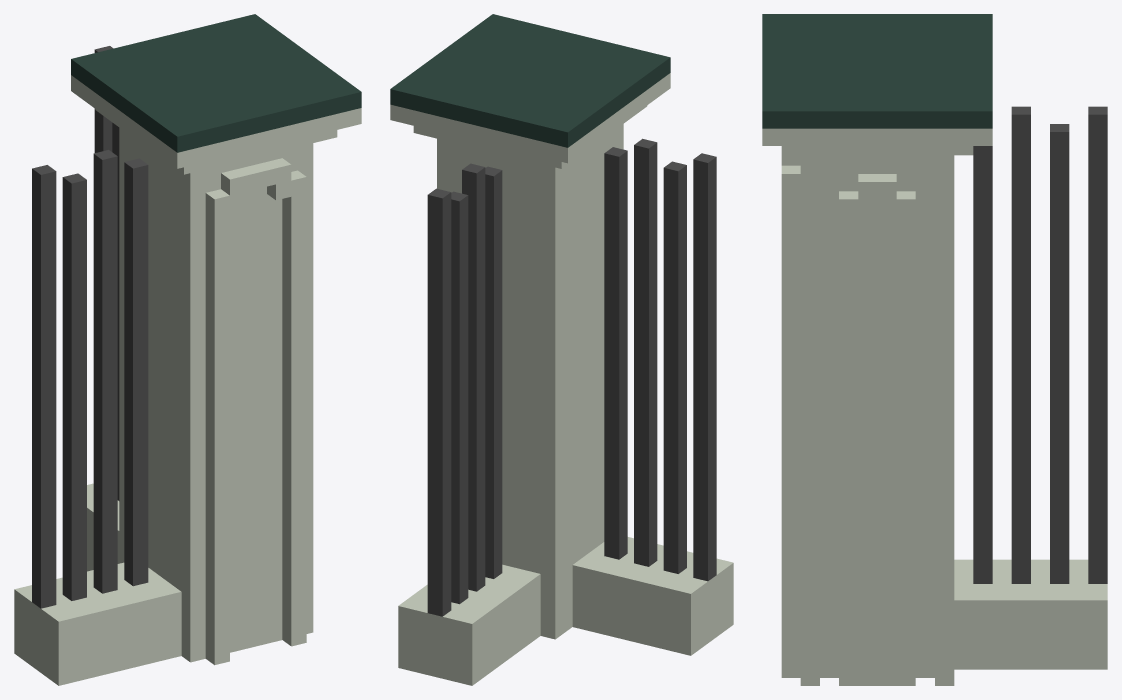
File: gate_corner_R.obj
3 views of the same model, side by side, from view 1: azimuth 30°, elevation 25°; view 2: azimuth 150°, elevation 25°; view 3: azimuth 270°, elevation 25° (orthographic). The views are drawn at different scales.
Size of the model in its own units: 1.8 by 3.4 by 1.8.
1 material, 1 textured.
